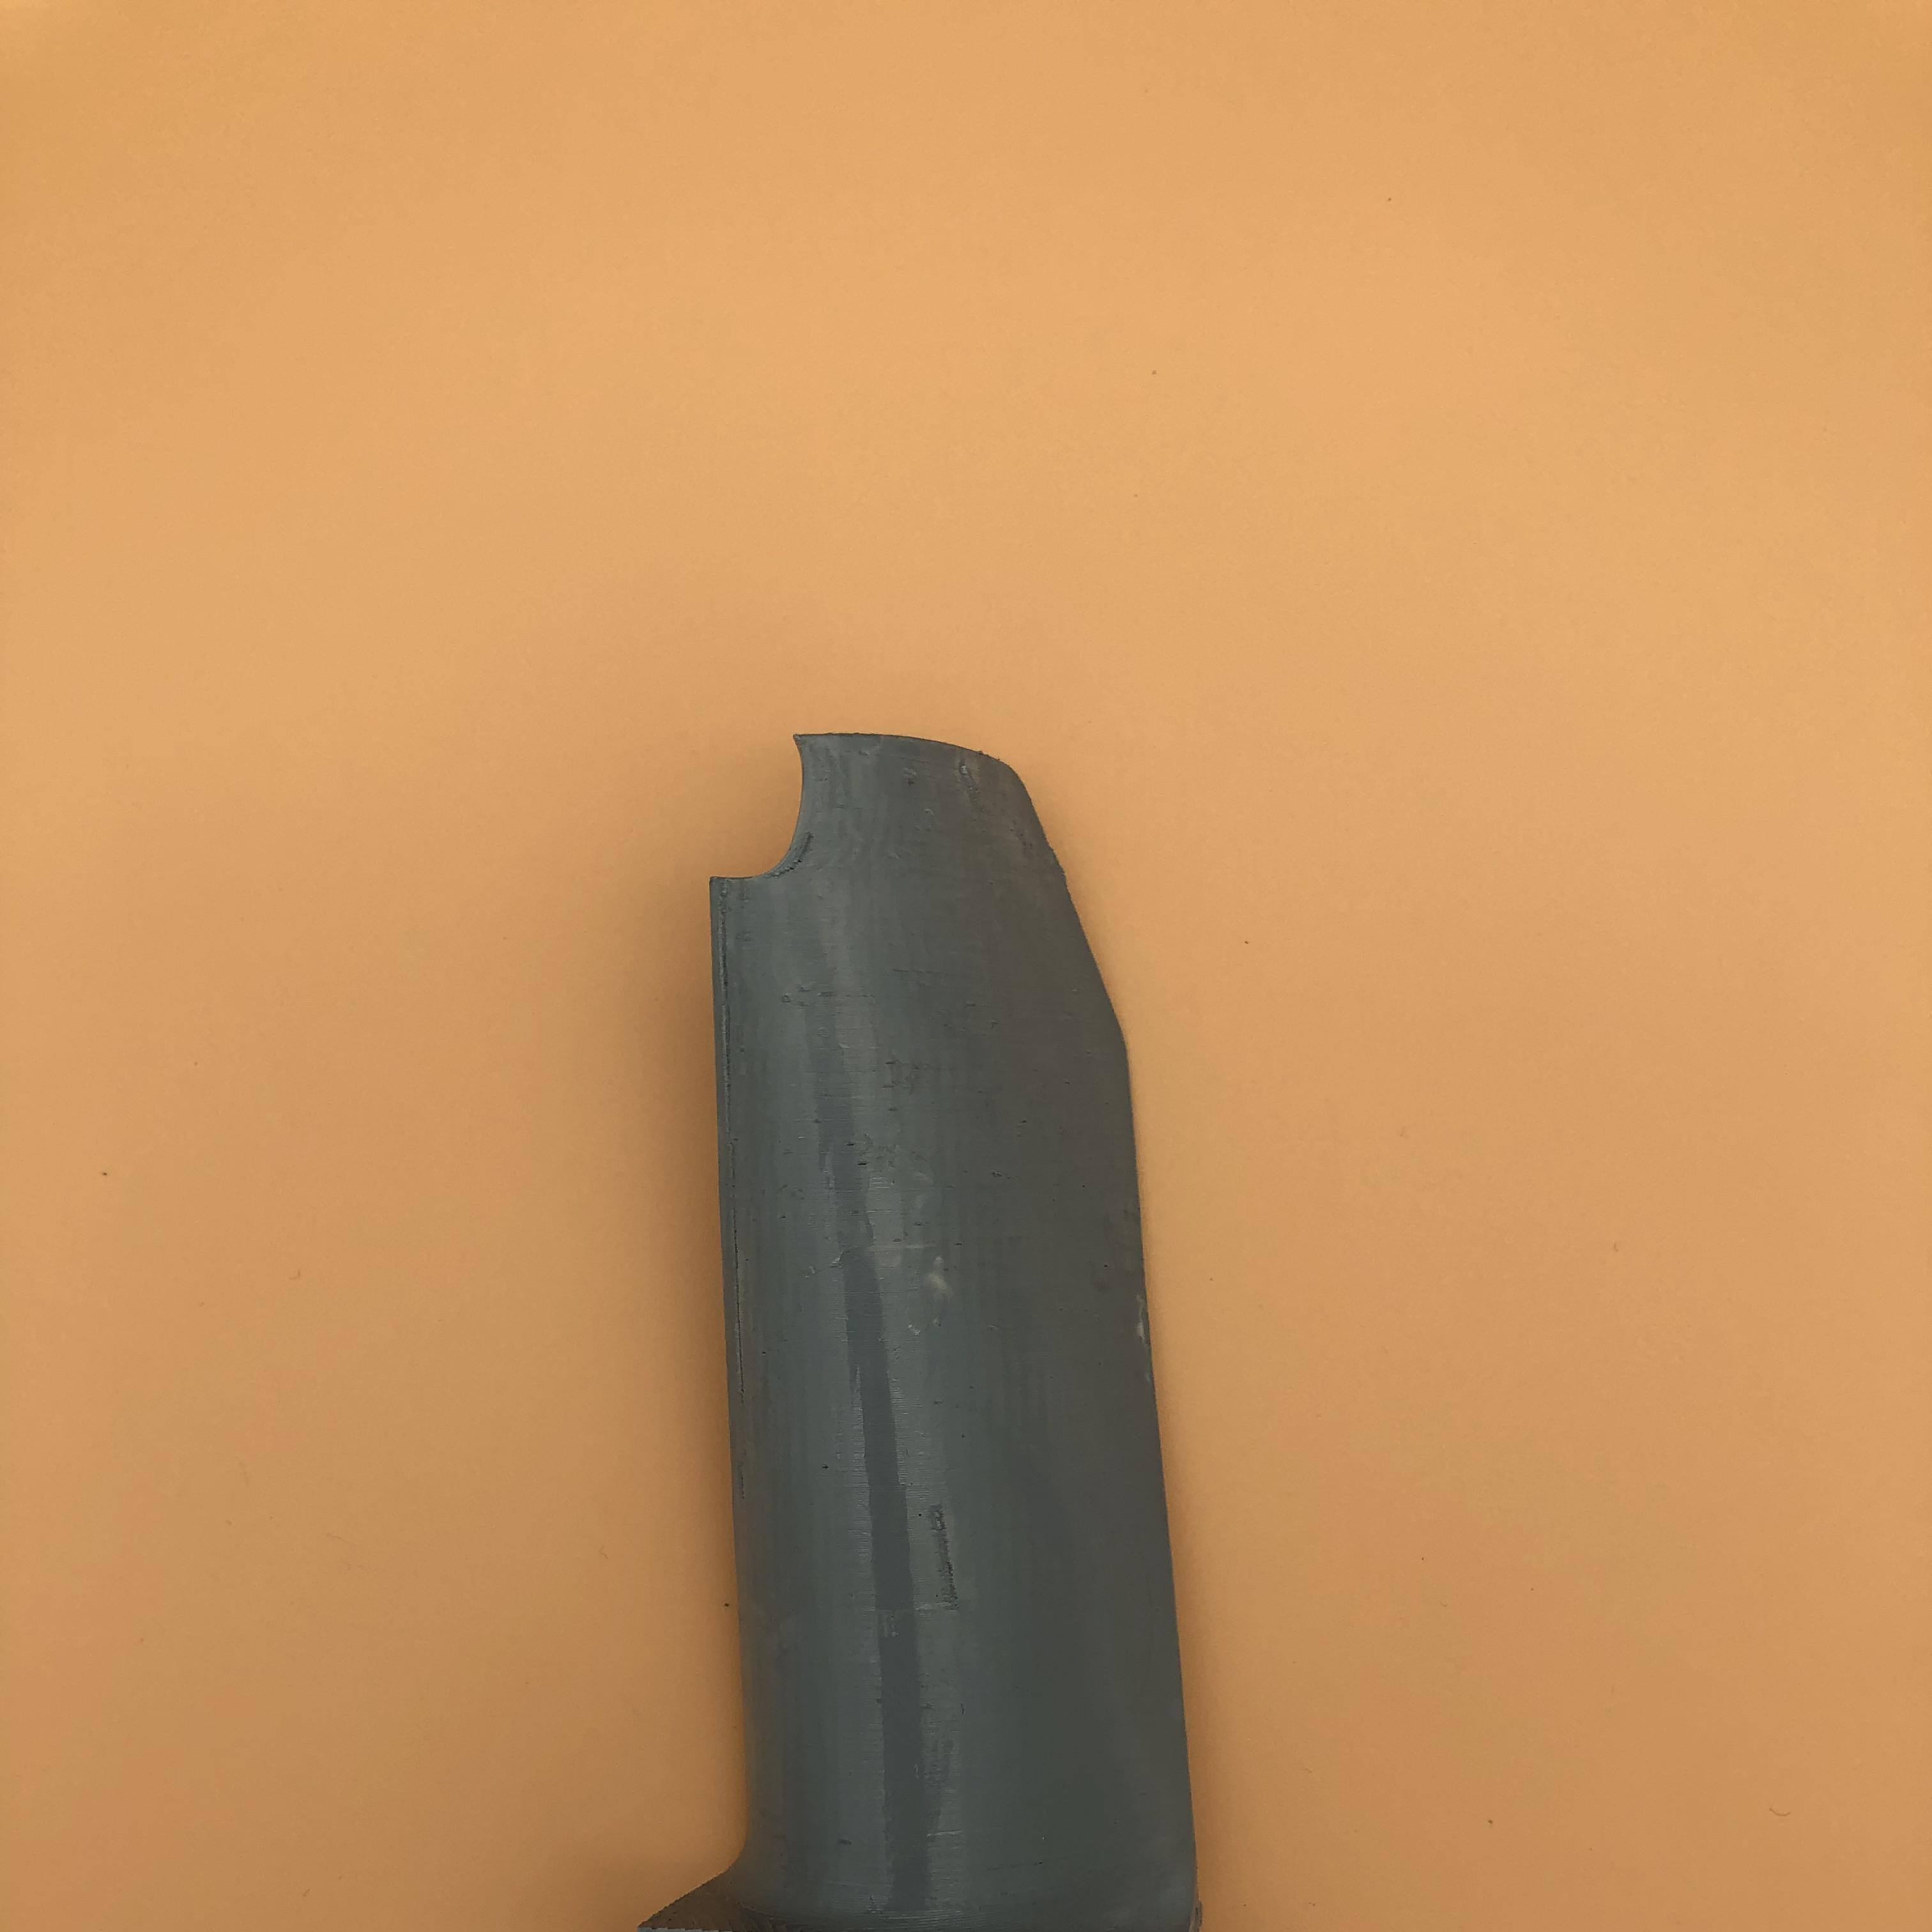fracture: (718, 736, 853, 906)
